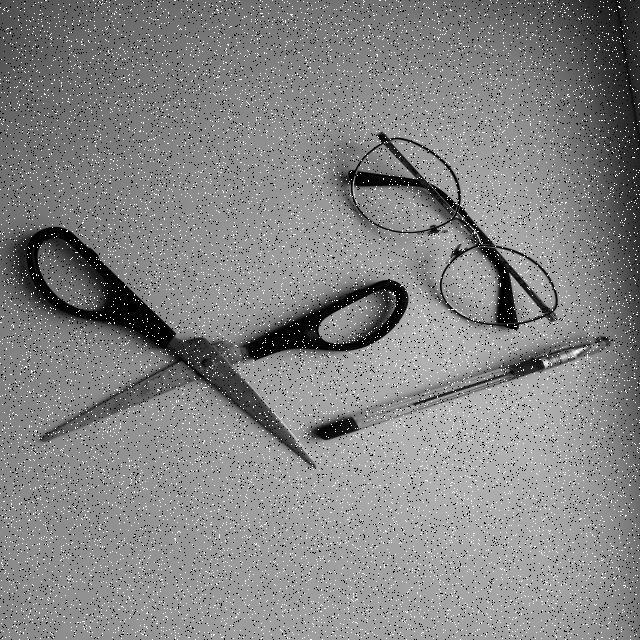scissors: (4, 205, 431, 493)
